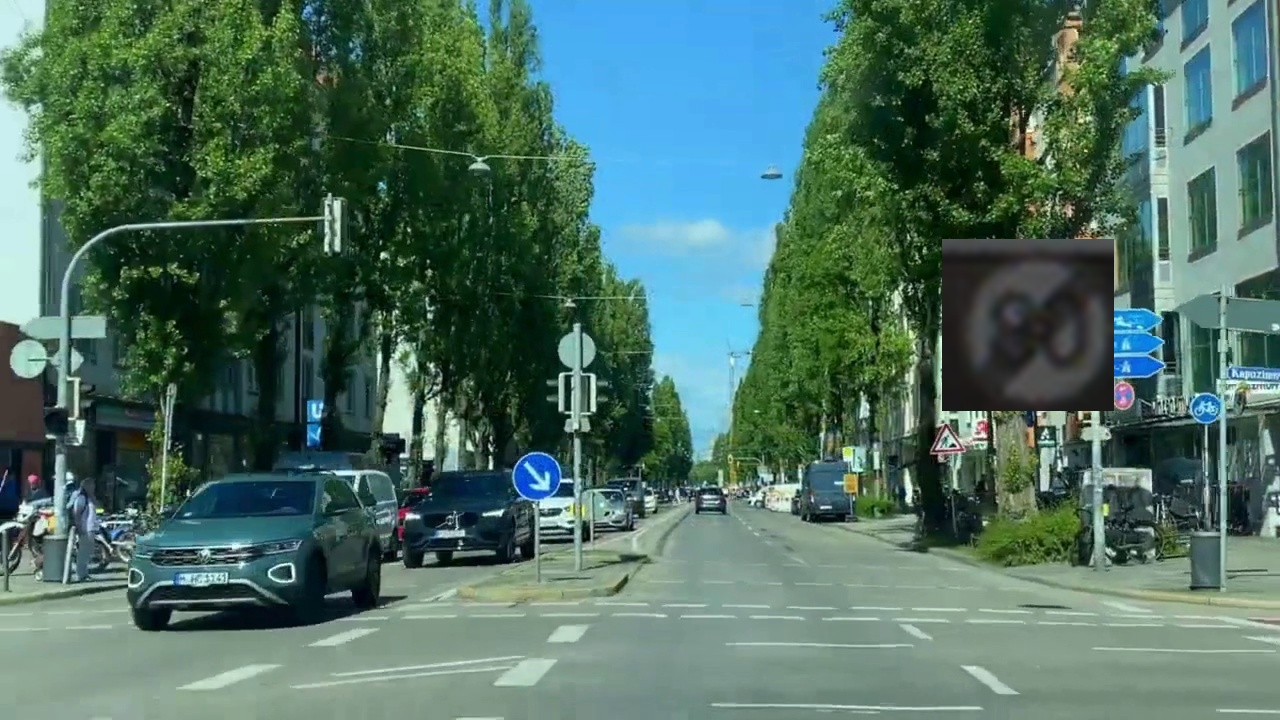End Speed 80: (942, 239, 1114, 411)
